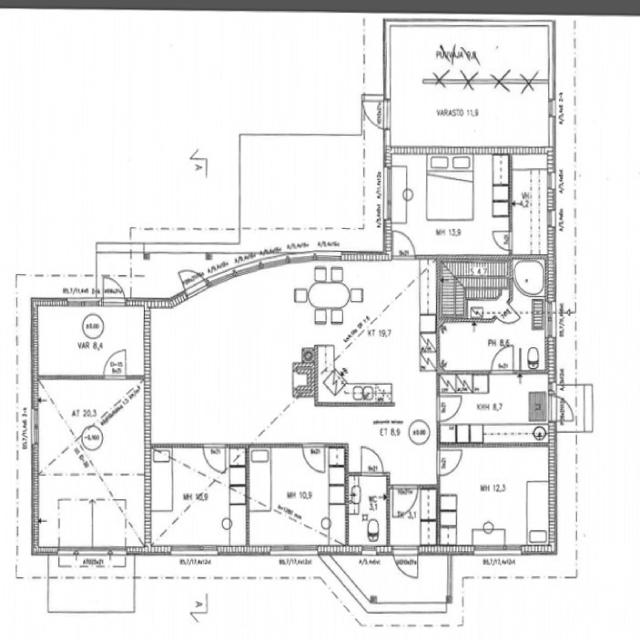door: (436, 371, 552, 445), (348, 455, 389, 550), (459, 326, 536, 374), (387, 481, 421, 520), (100, 271, 131, 310), (391, 543, 421, 583), (360, 93, 392, 130), (488, 342, 521, 376), (356, 443, 388, 478), (100, 344, 131, 380), (434, 444, 466, 478), (388, 226, 418, 261), (547, 392, 578, 425), (434, 391, 465, 423), (299, 442, 328, 476), (200, 443, 230, 475)
window: (285, 247, 349, 268), (176, 268, 210, 303), (265, 542, 321, 560), (168, 542, 222, 560), (24, 400, 43, 451), (472, 542, 522, 560), (466, 74, 502, 89), (358, 545, 381, 558)
zone: (230, 262, 435, 399), (146, 284, 318, 446), (384, 150, 513, 260), (32, 375, 147, 491), (437, 444, 557, 553), (384, 82, 555, 152), (147, 445, 250, 551), (243, 446, 348, 549), (438, 371, 554, 446), (32, 302, 140, 376), (441, 315, 547, 375), (434, 253, 522, 320), (509, 156, 555, 258), (348, 472, 388, 549)
